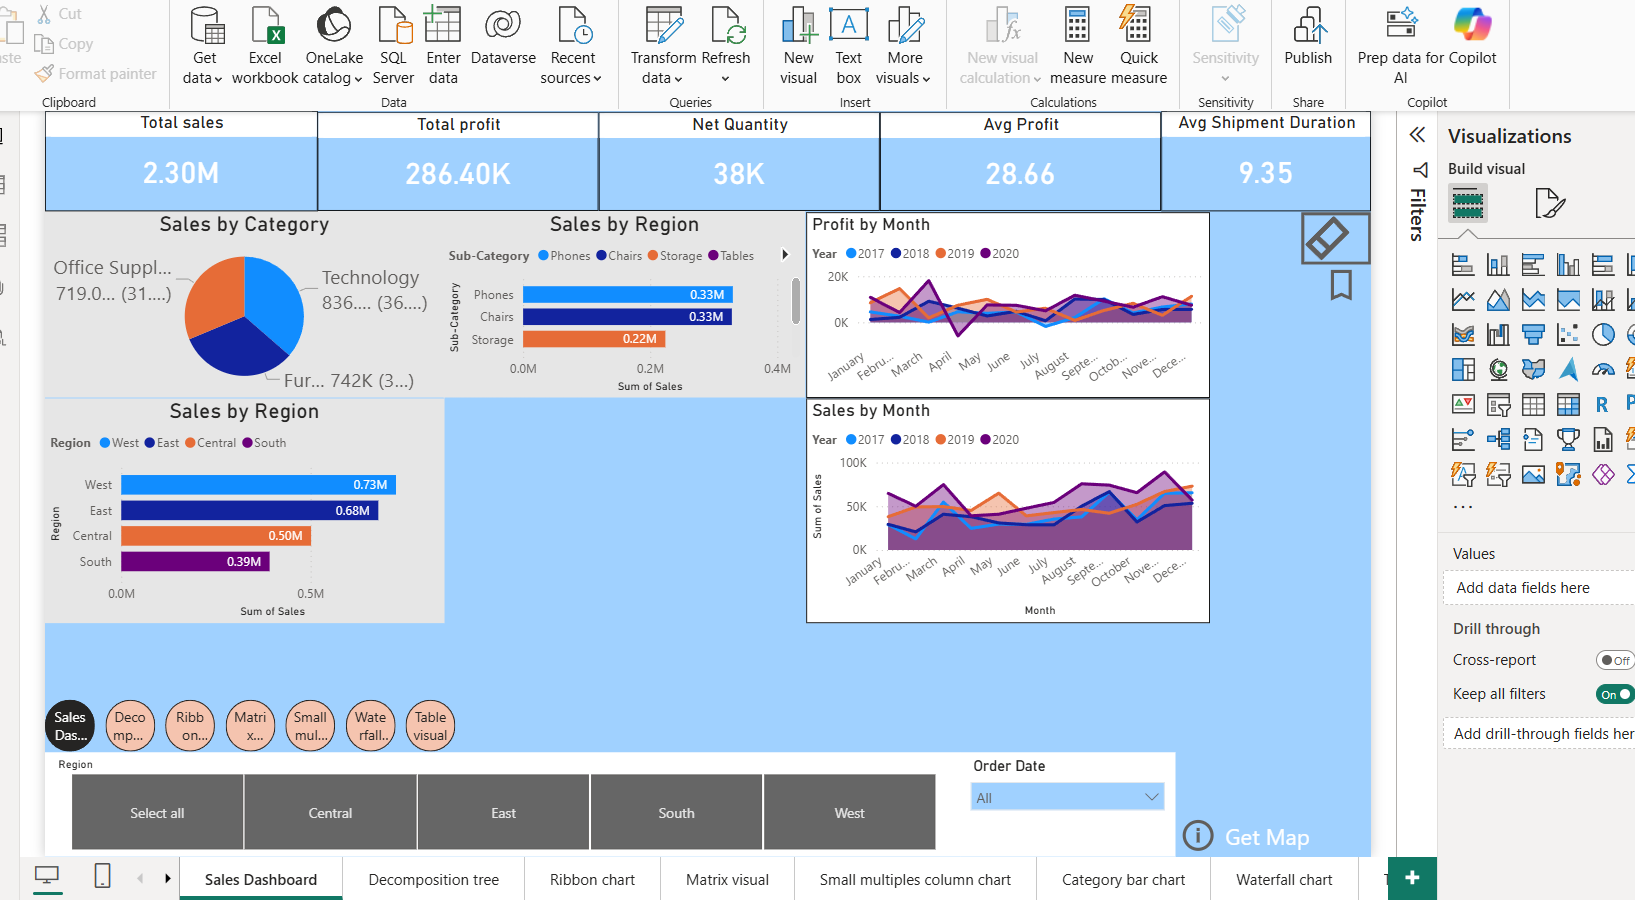

The dashboard page shown, as its layout file describes it:
{"tool":"powerbi","page":{"name":"Sales Dashboard","canvas":[1280,720],"ordinal":0},"visuals":[{"type":"pieChart","title":" Sales by Category","fields":{"Category":["in.Category"],"Y":["Sum(in.Sales)"]},"box":[0,96.7,385.2,180.3],"z":0},{"type":"barChart","title":" Sales by Region","fields":{"Category":["in.Sub-Category"],"Series":["in.Sub-Category"],"Y":["Sum(in.Sales)"]},"box":[385.2,96.7,349.1,180.3],"z":1000},{"type":"barChart","title":" Sales by Region","fields":{"Category":["in.Region"],"Series":["in.Region"],"Y":["Sum(in.Sales)"]},"box":[0,277,385.2,216.4],"z":2000},{"type":"card","title":"Total sales","fields":{"Values":["Sum(in.Sales)"]},"box":[0,0,263,96.5],"z":3000},{"type":"card","title":"Total profit","fields":{"Values":["Sum(in.Profit)"]},"box":[263,1.2,271.4,95.3],"z":4000},{"type":"card","title":"Net Quantity","fields":{"Values":["Sum(in.Quantity)"]},"box":[534.5,1.2,271.4,95.3],"z":5000},{"type":"card","title":"Avg Profit","fields":{"Values":["Avg(in.Profit)"]},"box":[805.9,1.2,271.4,95.3],"z":6000},{"type":"card","title":"Avg Shipment Duration","fields":{"Values":["Avg(in.Shipment Duration)"]},"box":[1077.4,0,202.7,96.5],"z":7000},{"type":"slicer","fields":{"Values":["in.Region"]},"box":[0,618.7,883.2,101],"z":8000},{"type":"actionButton","box":[1212.5,97.7,67.6,50.7],"z":9000},{"type":"areaChart","title":" Profit by Month ","fields":{"Category":["Calender.Date.Variation.Date Hierarchy.Month"],"Series":["Calender.Date.Variation.Date Hierarchy.Year"],"Y":["Sum(in.Profit)"]},"box":[734.4,98.1,389.5,178.9],"z":11000},{"type":"areaChart","title":" Sales by Month ","fields":{"Category":["Calender.Date.Variation.Date Hierarchy.Month"],"Series":["Calender.Date.Variation.Date Hierarchy.Year"],"Y":["Sum(in.Sales)"]},"box":[734.4,277,389.5,216.4],"z":12000},{"type":"slicer","fields":{"Values":["in.Order Date.Variation.Date Hierarchy.Year"]},"box":[883,618.9,207.8,101],"z":13000},{"type":"actionButton","box":[1232.1,148.6,47.6,39],"z":14000},{"type":"actionButton","title":"Get Map","box":[1092.7,679.5,174,39.9],"z":16000},{"type":"pageNavigator","box":[0,568.4,399.6,50.5],"z":16001}]}

Visuals, with their boxes on the page's 1280x720 design canvas (x1, y1, x2, y2). These are canvas units, not pixel positions in the 1635x900 screenshot, which may show the page scaled, cropped or inside an application window:
" Sales by Category" pieChart: select_region(0, 97, 385, 277)
" Sales by Region" barChart: select_region(385, 97, 734, 277)
" Sales by Region" barChart: select_region(0, 277, 385, 493)
"Total sales" card: select_region(0, 0, 263, 96)
"Total profit" card: select_region(263, 1, 534, 96)
"Net Quantity" card: select_region(534, 1, 806, 96)
"Avg Profit" card: select_region(806, 1, 1077, 96)
"Avg Shipment Duration" card: select_region(1077, 0, 1280, 96)
slicer - in.Region: select_region(0, 619, 883, 720)
actionButton: select_region(1212, 98, 1280, 148)
" Profit by Month " areaChart: select_region(734, 98, 1124, 277)
" Sales by Month " areaChart: select_region(734, 277, 1124, 493)
slicer - in.Order Date.Variation.Date Hierarchy.Year: select_region(883, 619, 1091, 720)
actionButton: select_region(1232, 149, 1280, 188)
"Get Map" actionButton: select_region(1093, 680, 1267, 719)
pageNavigator: select_region(0, 568, 400, 619)
